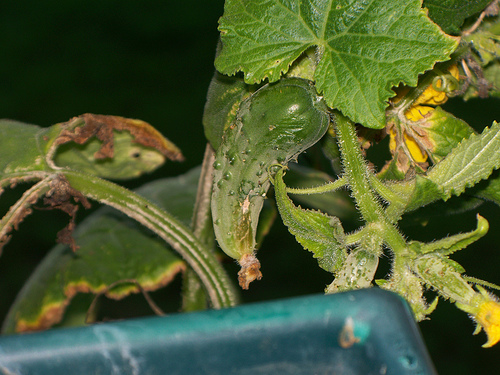cucumber: (209, 76, 332, 292)
